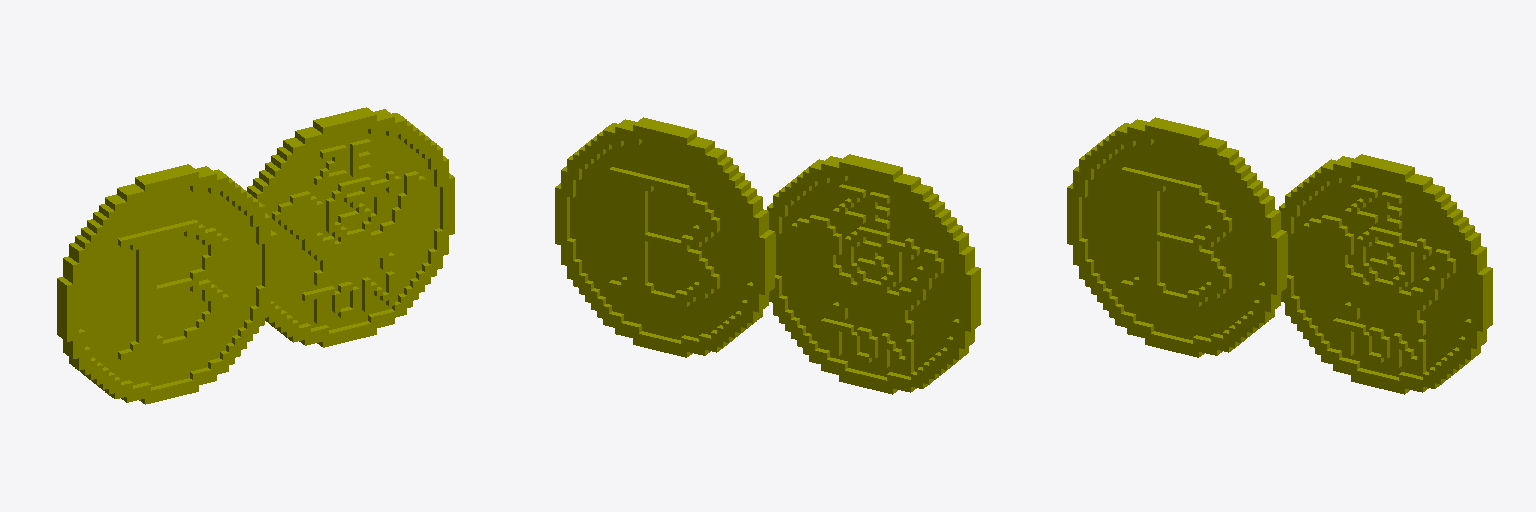
3 views of the same model, side by side, from view 1: azimuth 30°, elevation 25°; view 2: azimuth 150°, elevation 25°; view 3: azimuth 330°, elevation 25° (orthographic).
Size of the model in its own units: 67 by 35 by 7.
Materials: 1 (1 with a texture image).